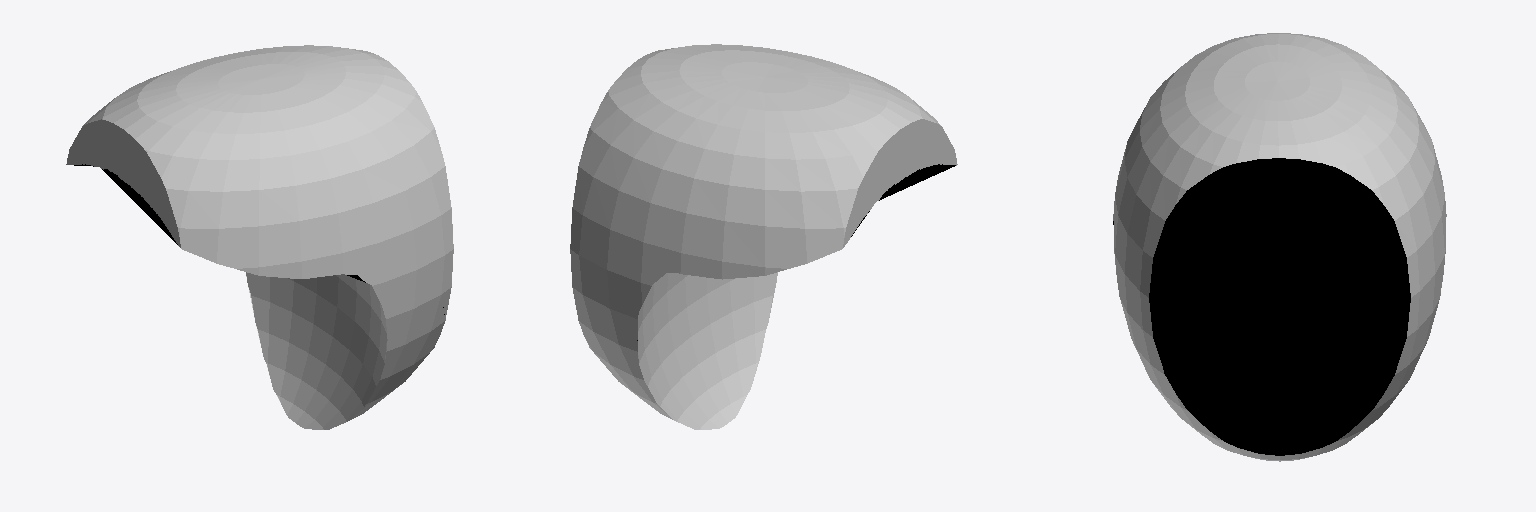
3 renders of one model, left to right at view 1: azimuth 30°, elevation 25°; view 2: azimuth 150°, elevation 25°; view 3: azimuth 270°, elevation 25°, orthographic.
Visible parts, largest first — view 1: head_Sphere.002; view 2: head_Sphere.002; view 3: head_Sphere.002.
Boxes of the visible parts, x1=… form: head_Sphere.002: x1=66, y1=45, x2=453, y2=429; head_Sphere.002: x1=570, y1=44, x2=957, y2=429; head_Sphere.002: x1=1113, y1=33, x2=1446, y2=461.
Bounding box in the file's own units: 0.1314 × 0.168 × 0.1435.
1 materials, 1 textured.